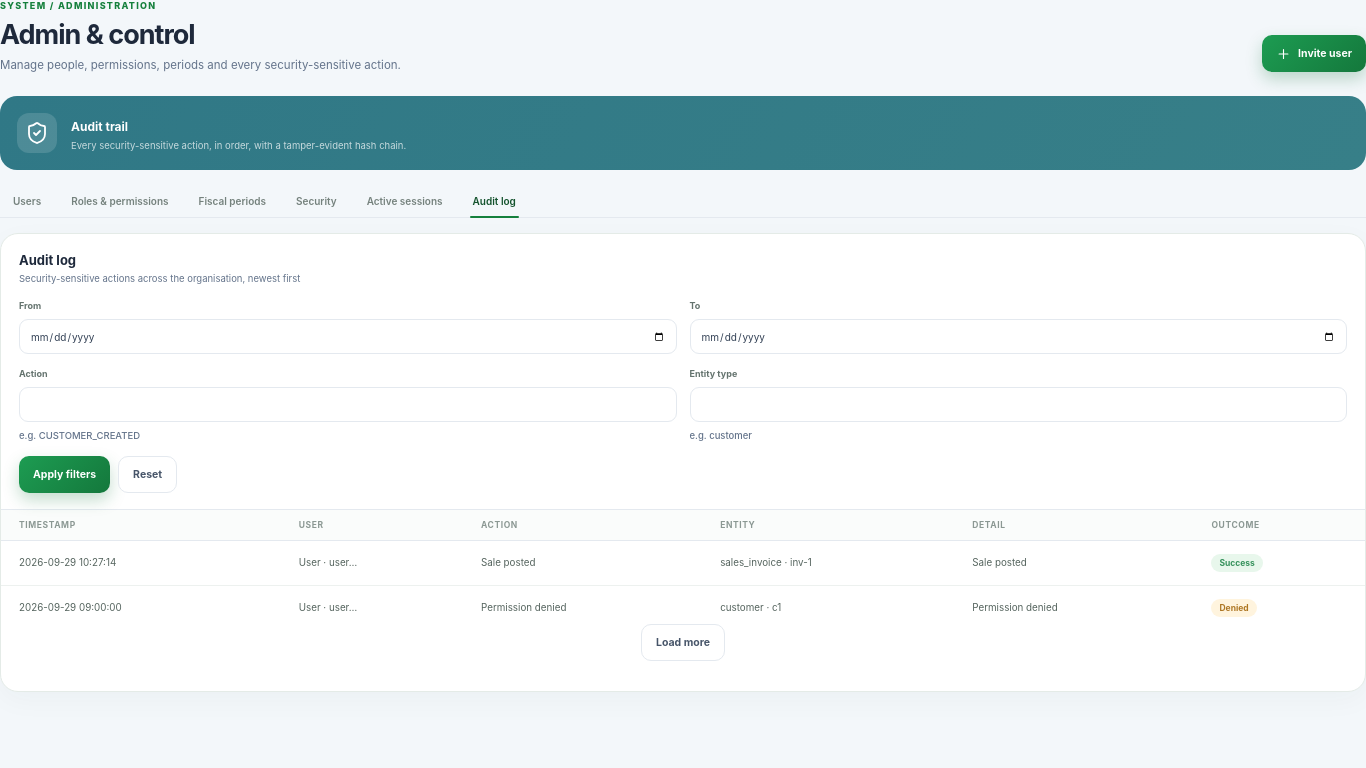
Test: Admin — Audit log tab (real API) › shows an error, not a silent failure, when Load more itself fails
Click the button "Load more" at (683, 642), box [641, 624, 725, 661]
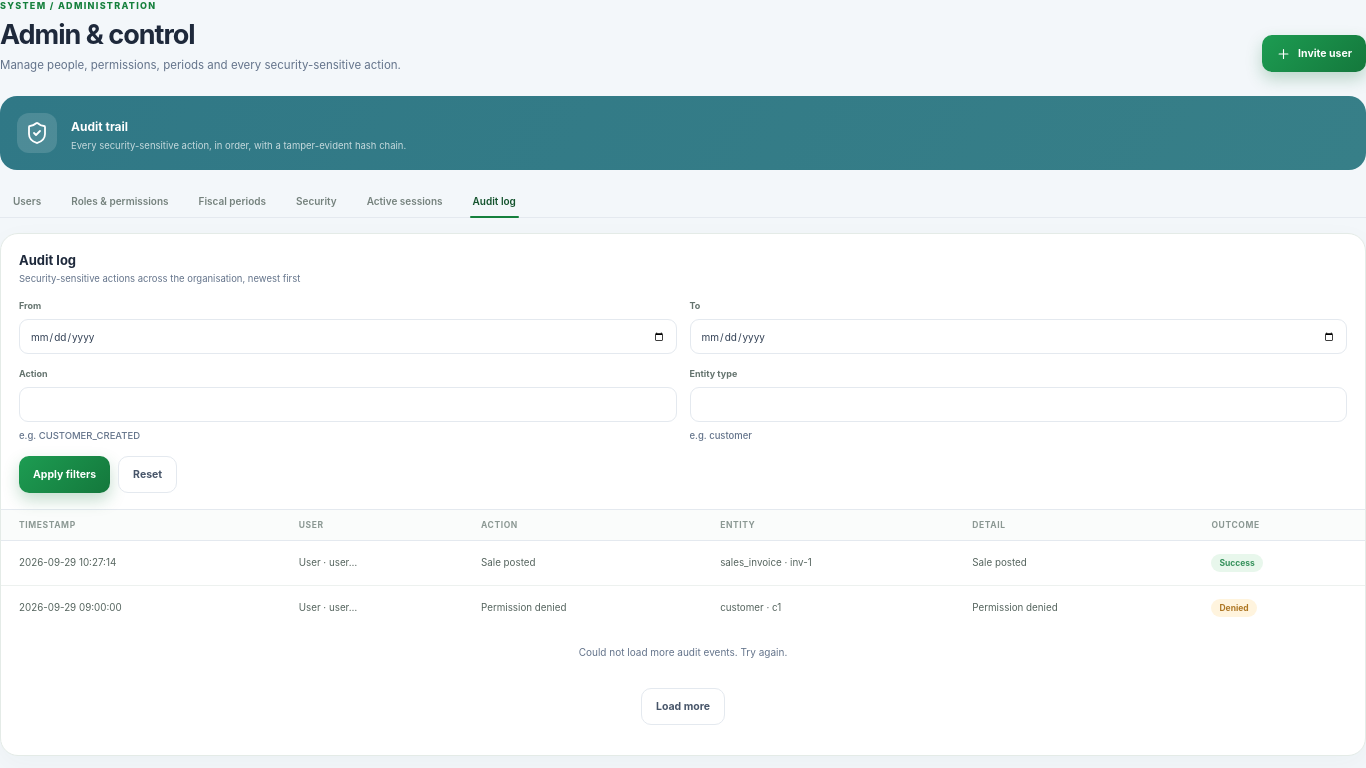
Check: the button "Load more" is shown, box [641, 688, 725, 725]
Check: the text "Could not load more audit events. Try again." is shown, box [579, 646, 787, 658]
